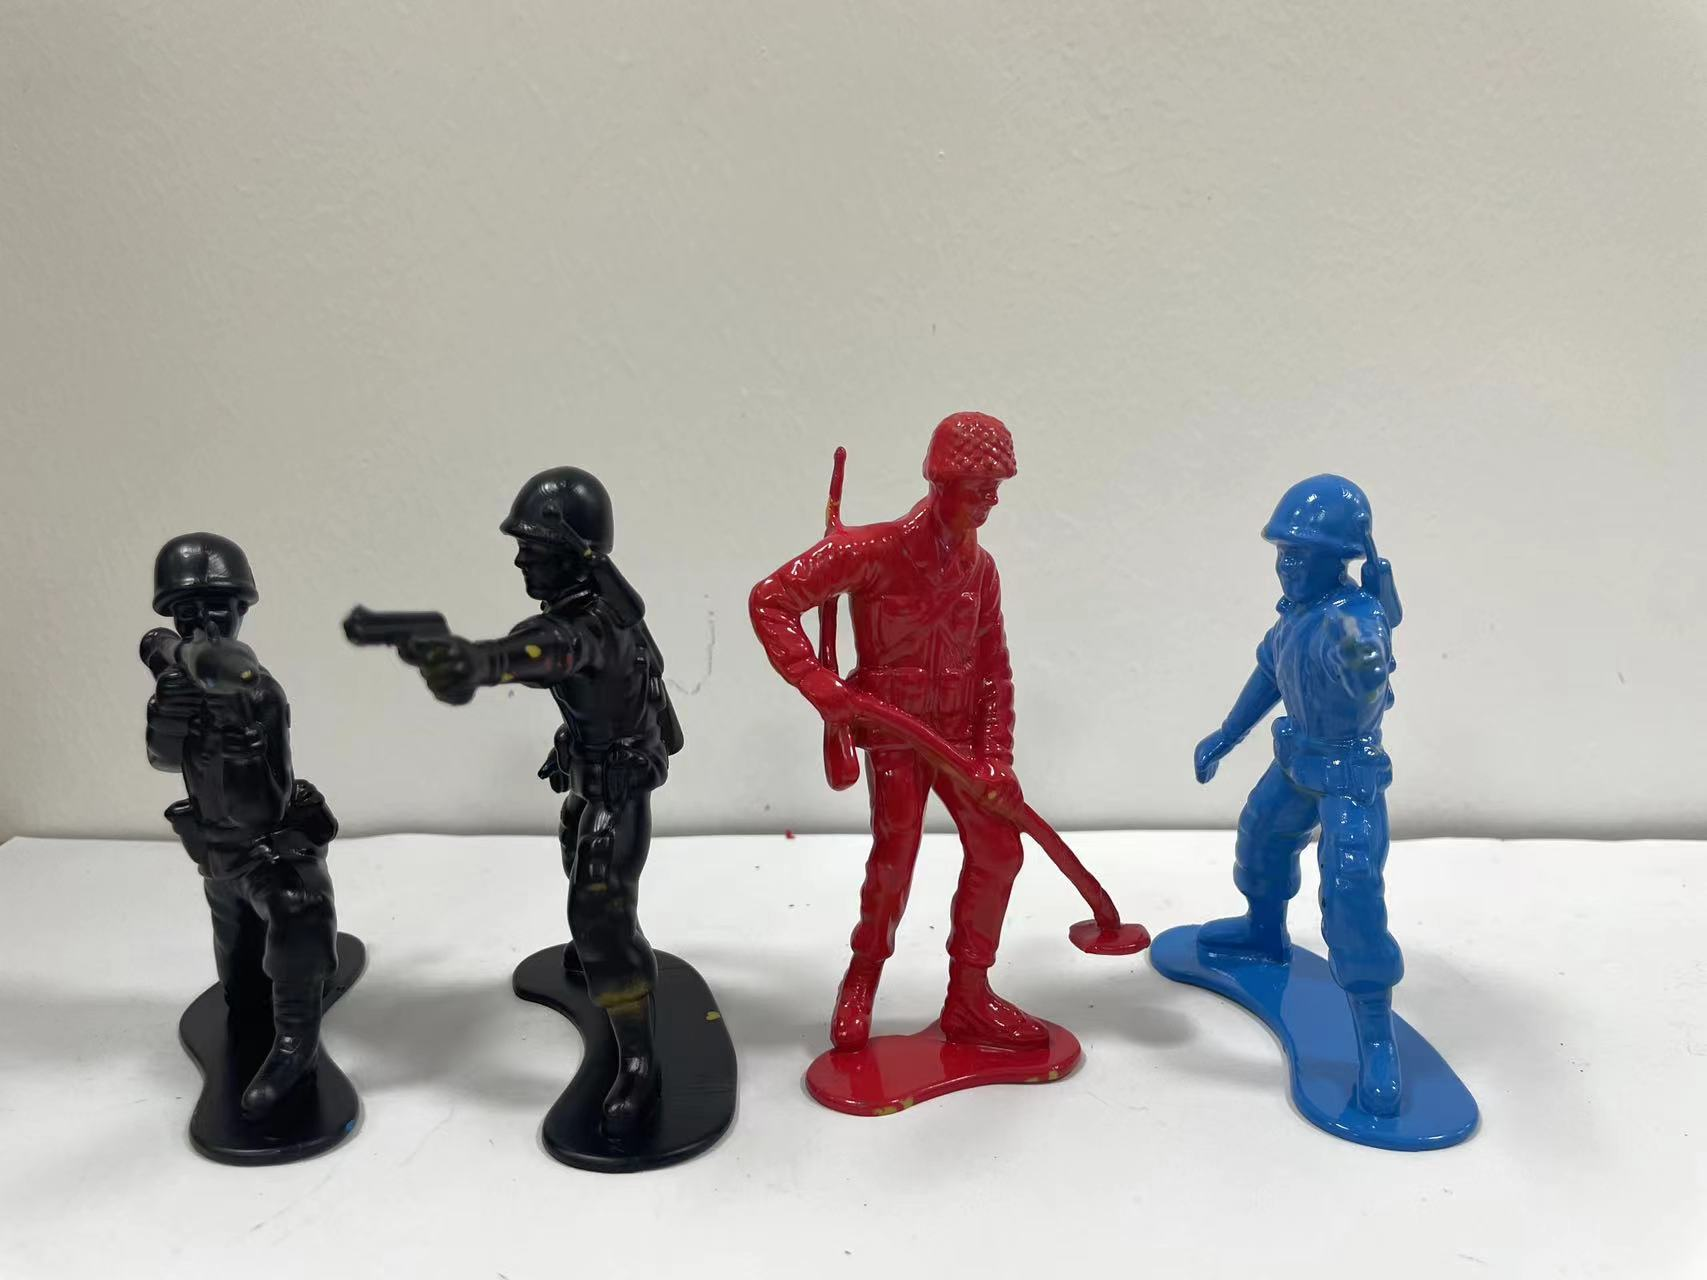black: (362, 430, 757, 1236), (99, 502, 382, 1176)
blue: (1149, 475, 1544, 1172)
red: (742, 376, 1110, 1143)
